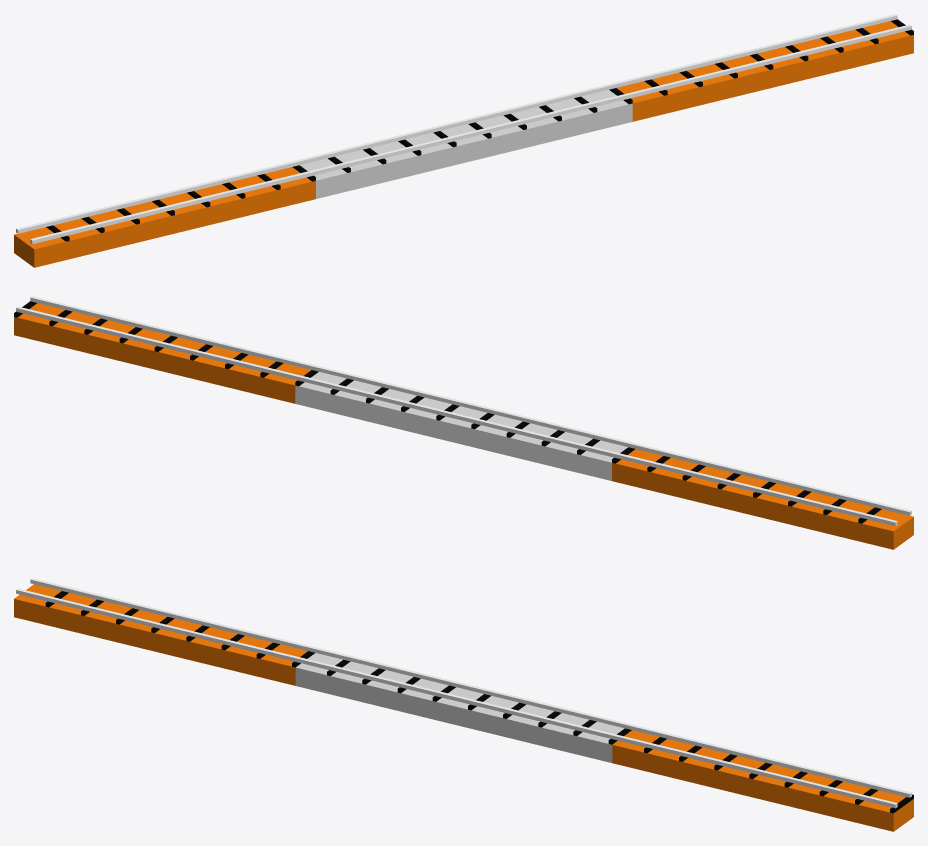
3 renders of one model, top to bottom at view 1: azimuth 30°, elevation 25°; view 2: azimuth 150°, elevation 25°; view 3: azimuth 330°, elevation 25°, orthographic.
Parts seen in each view (by area): view 1: Model; view 2: Model; view 3: Model.
Boxes of the visible parts, bbox=[...] form: Model: bbox=[14, 14, 913, 267]; Model: bbox=[14, 296, 913, 549]; Model: bbox=[14, 578, 913, 831].
Size of the model in its own units: 25 by 0.7 by 1.
